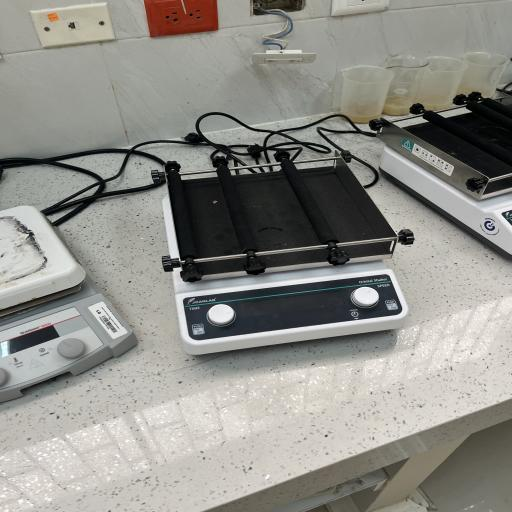Agitador_Orbital_DLAB: (114, 150, 458, 368)
